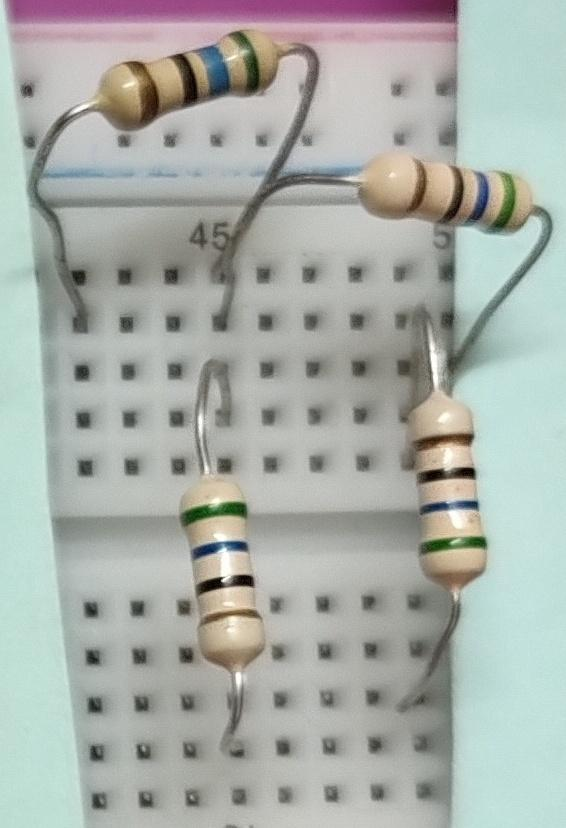resistor: (154, 468, 312, 670), (394, 374, 512, 612), (346, 126, 542, 266), (90, 14, 290, 150)
